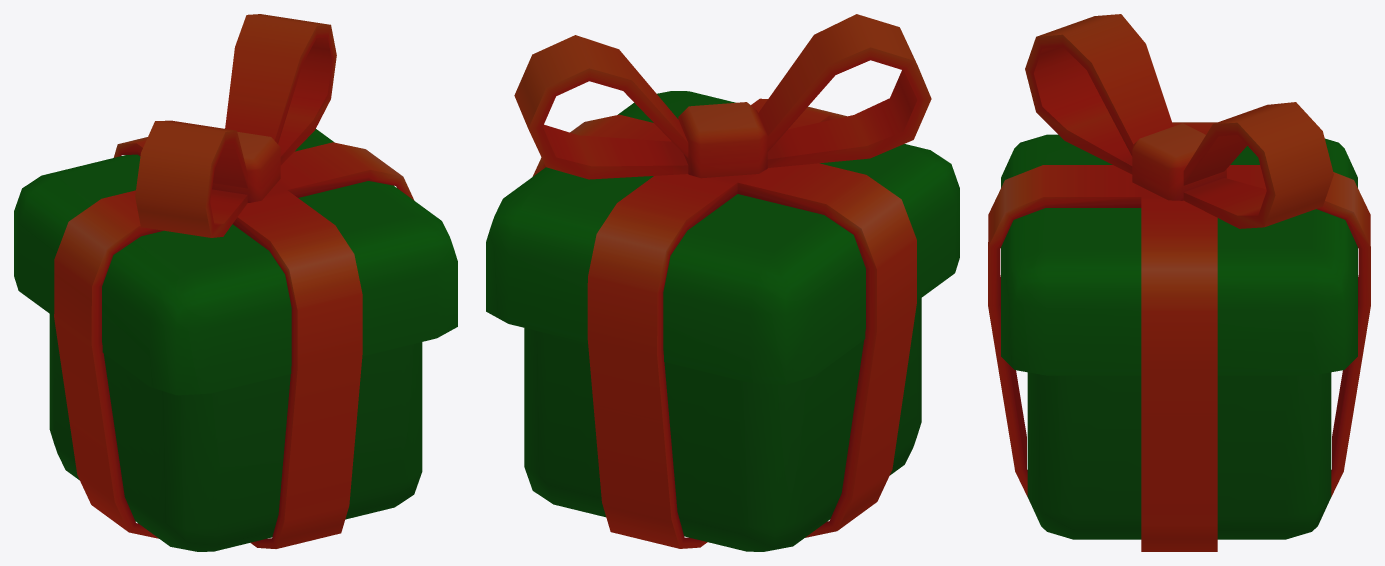
The model's file is gift_green.glb.
3 views of the same model, side by side, from view 1: azimuth 30°, elevation 25°; view 2: azimuth 150°, elevation 25°; view 3: azimuth 270°, elevation 25° (orthographic). The views are drawn at different scales.
Parts seen in each view (by area): view 1: gift_green; view 2: gift_green; view 3: gift_green.
Part boxes in pixels (x1=…): gift_green: x1=14, y1=14, x2=457, y2=551; gift_green: x1=486, y1=14, x2=959, y2=551; gift_green: x1=988, y1=14, x2=1370, y2=551.
Bounding box in the file's own units: 0.4021 × 0.506 × 0.4023.
Materials: 1 (1 with a texture image).
